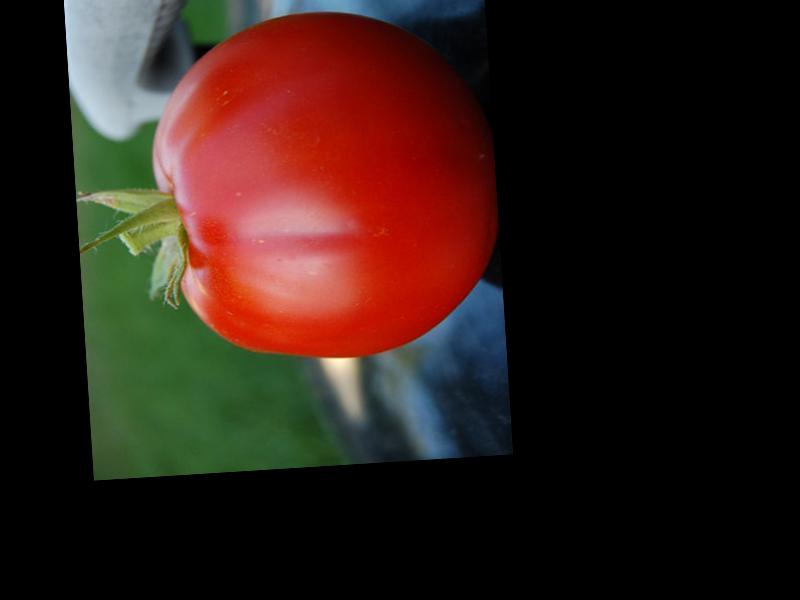Tomato: (144, 1, 506, 369)
